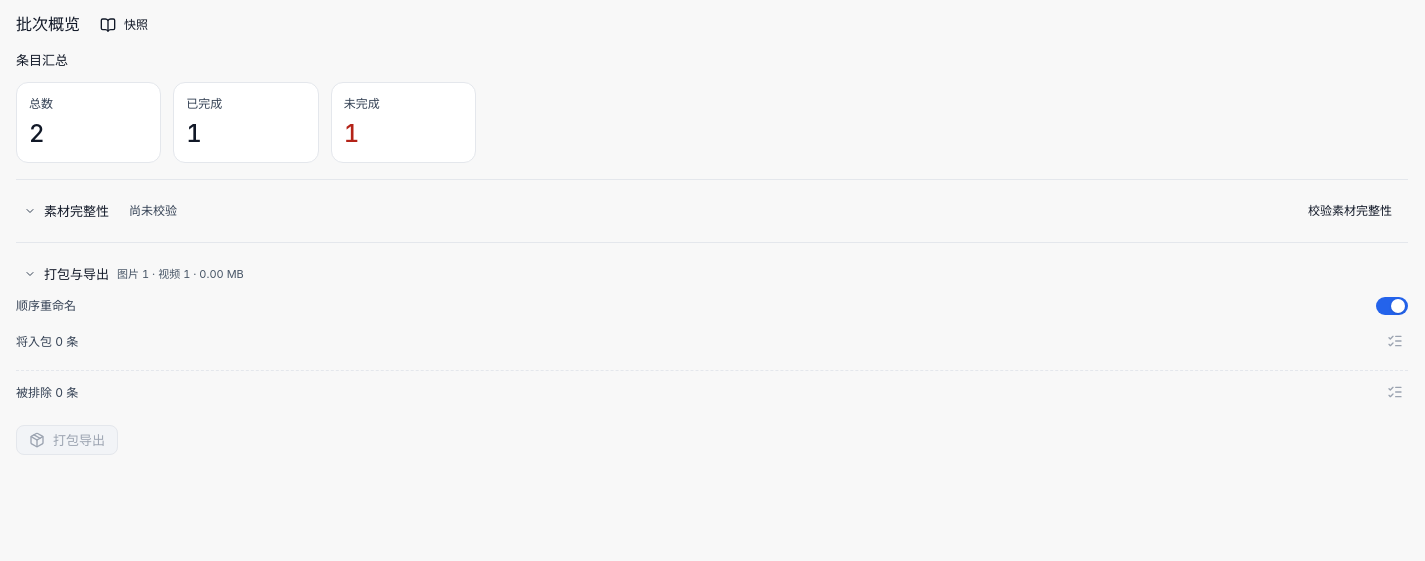
Test: 批次概览 › 手动校验展示当前批次问题，失败时保留上次报告
The width and height of the screenshot is (1425, 561).
Step 1. Click the button "校验素材完整性" → point(1350, 211), box [1300,198,1400,224]
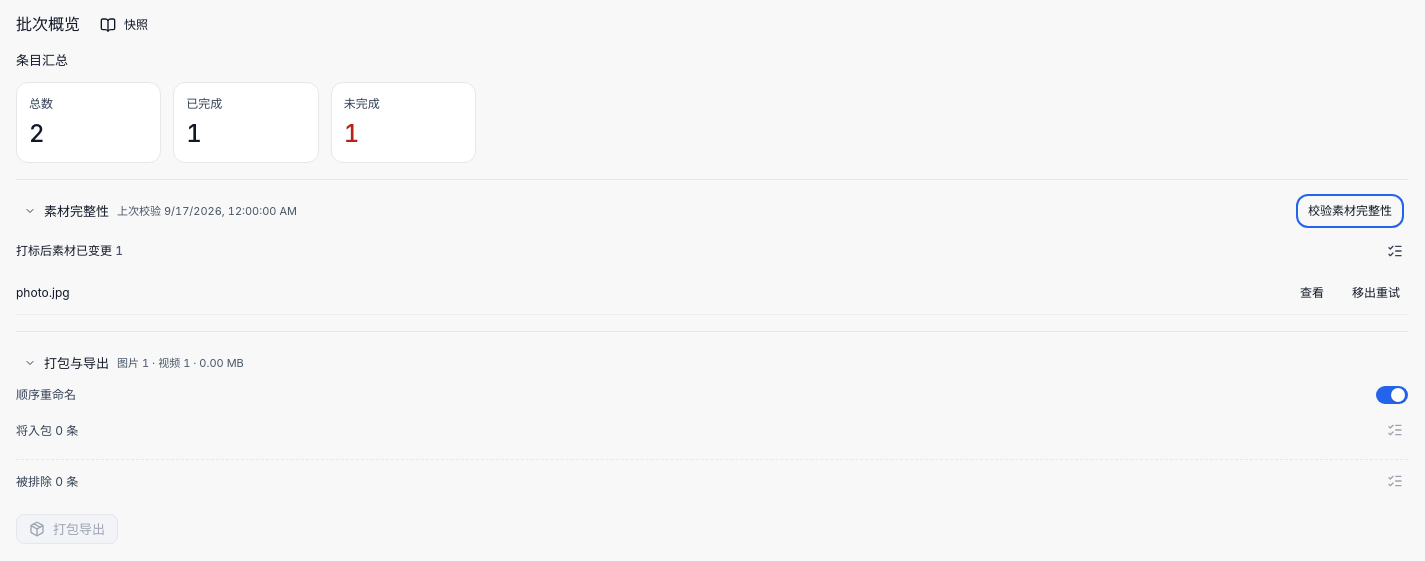
Expected: the element "打标后素材已变更" shows "photo.jpg", [16,285,70,300]
Step 2. Click the button "查看" → point(1312, 293), box [1292,280,1332,306]
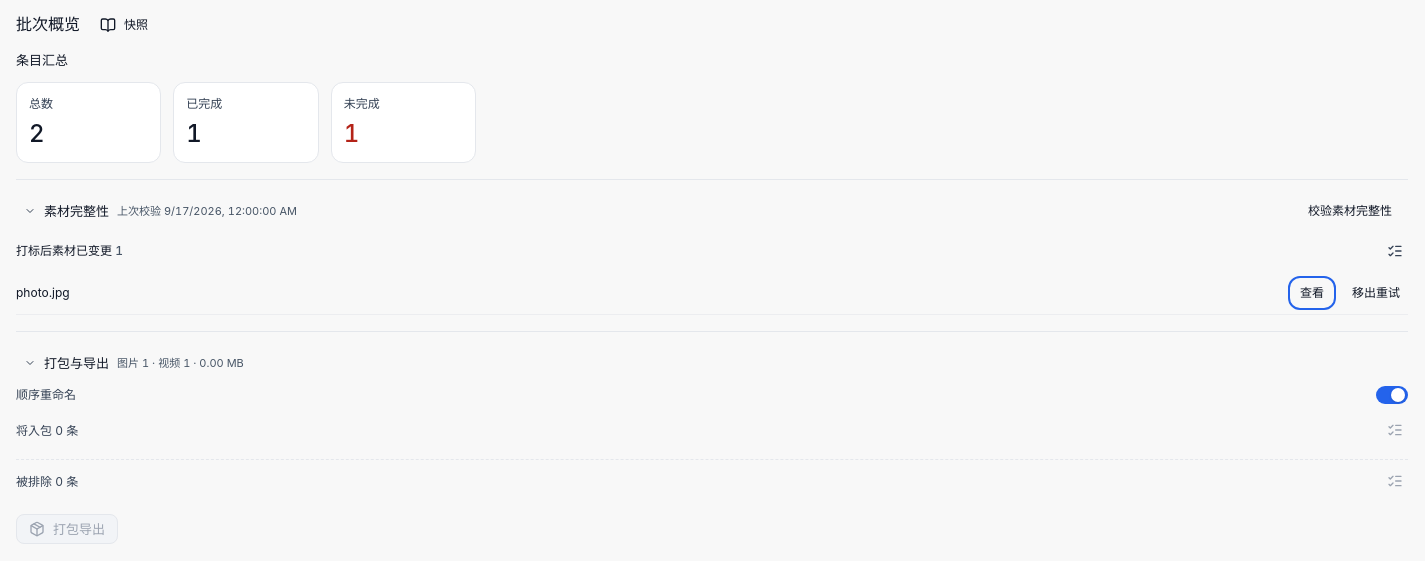
Step 3. Click the button "校验素材完整性" → point(1350, 211), box [1300,198,1400,224]
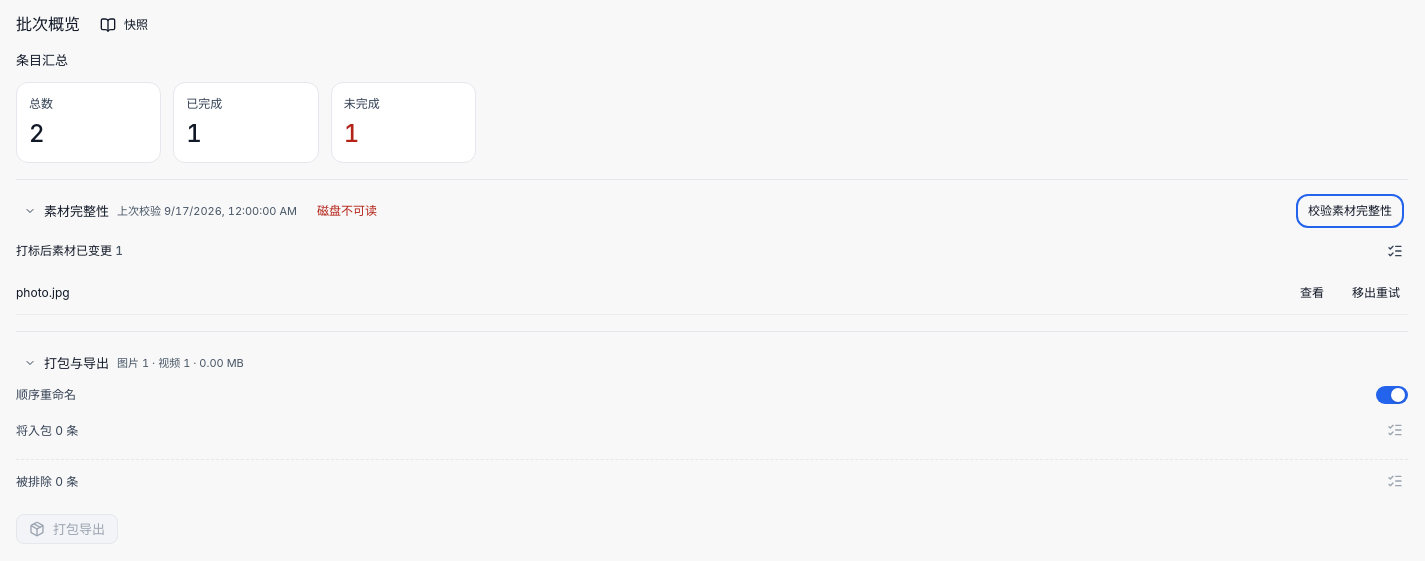
Expected: the element "打标后素材已变更" is shown, [16,238,1408,315]
Expected: the message reads "磁盘不可读", [317,203,377,218]
